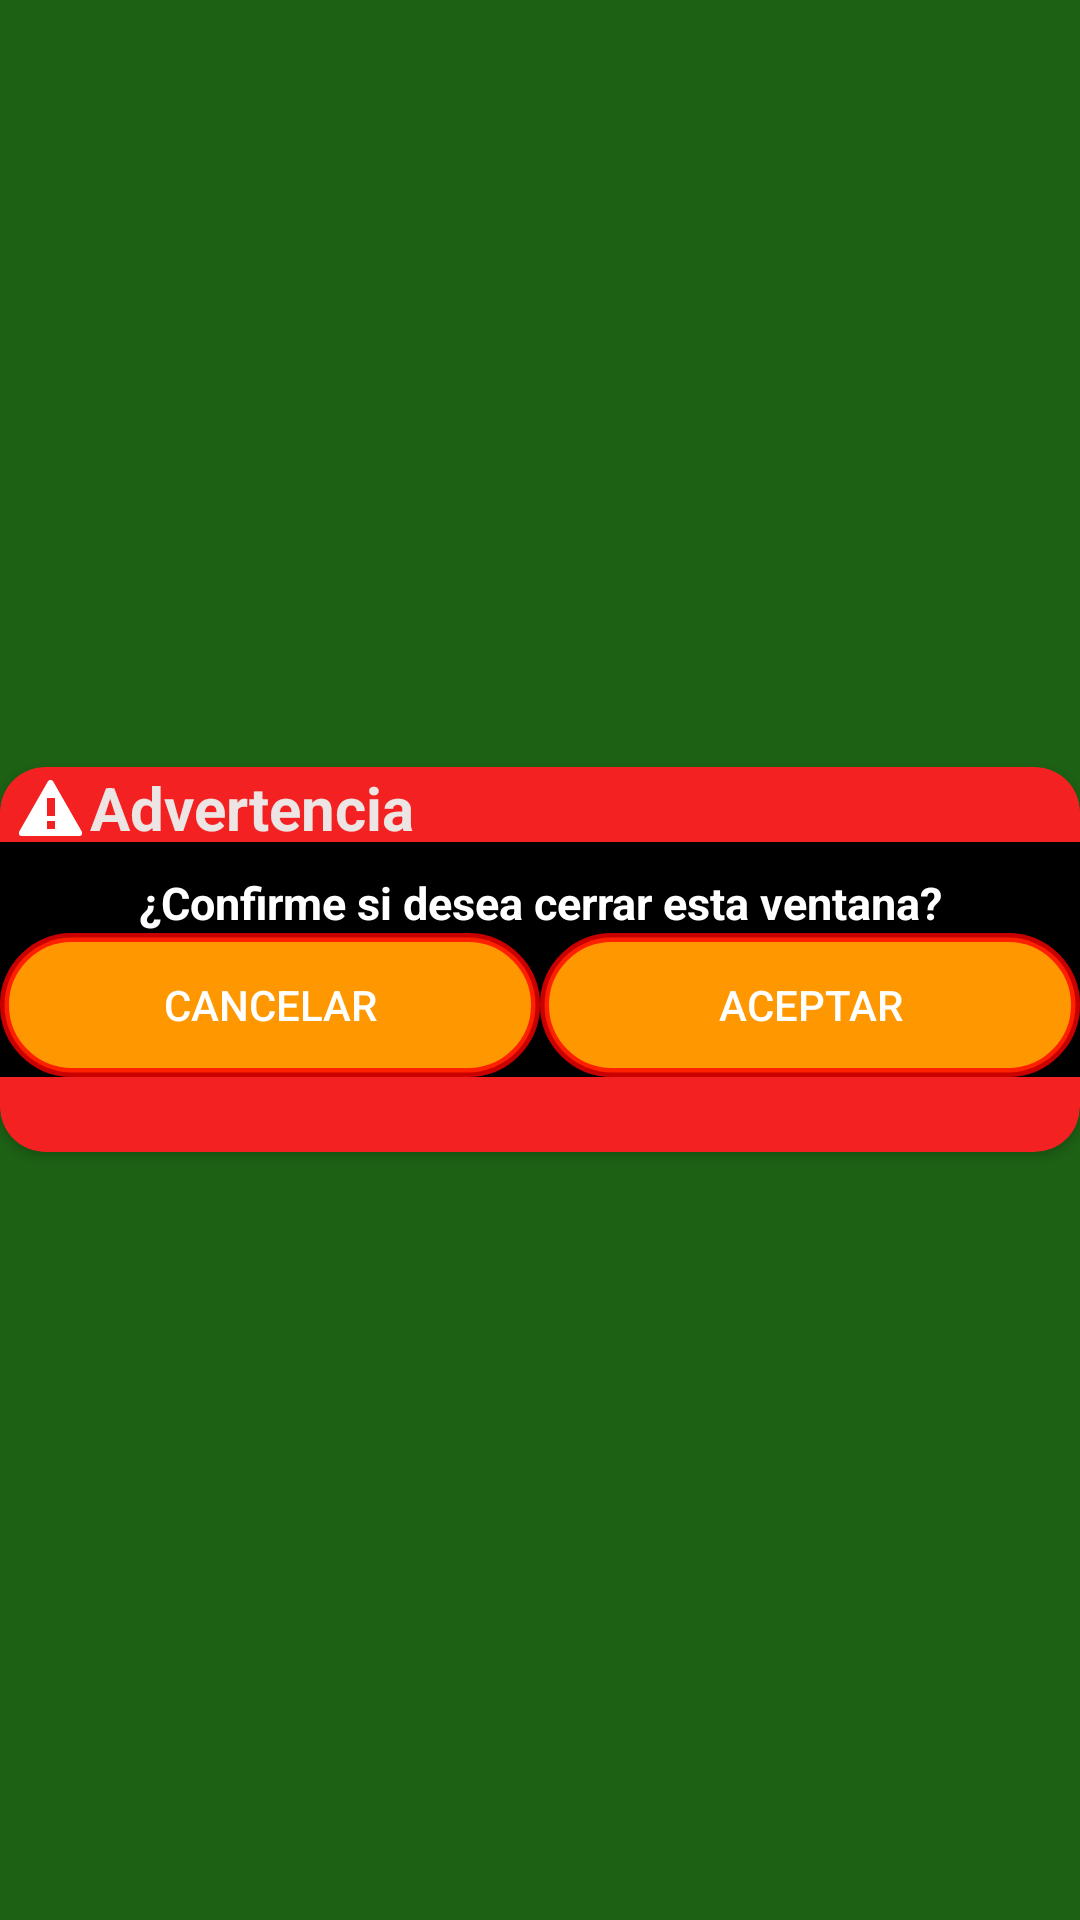

Icons on this 1080×1920 Android screen, each with the point to tap as point (x, y):
warning: point (43, 809)
